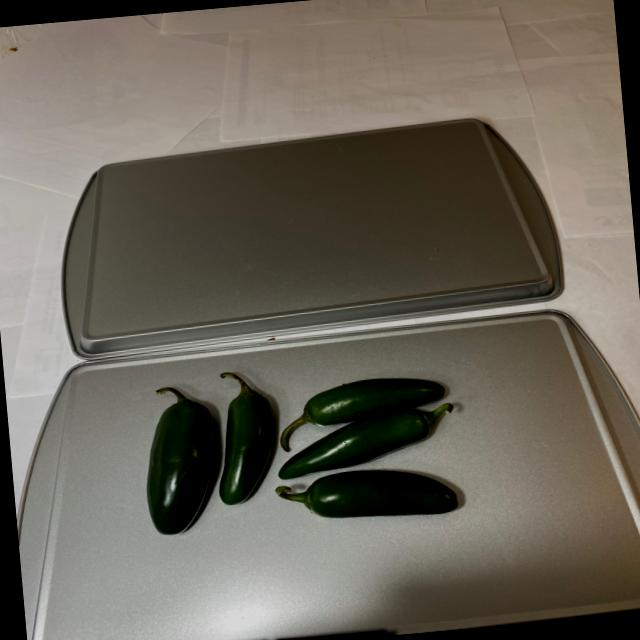chilli: (123, 352, 486, 542)
